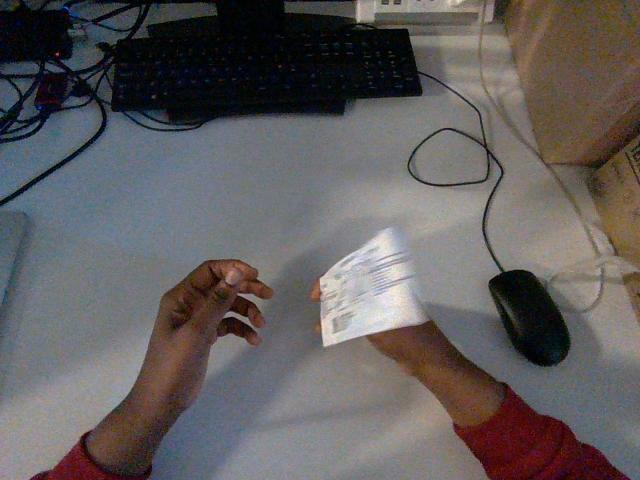syringe: (320, 228, 422, 346)
